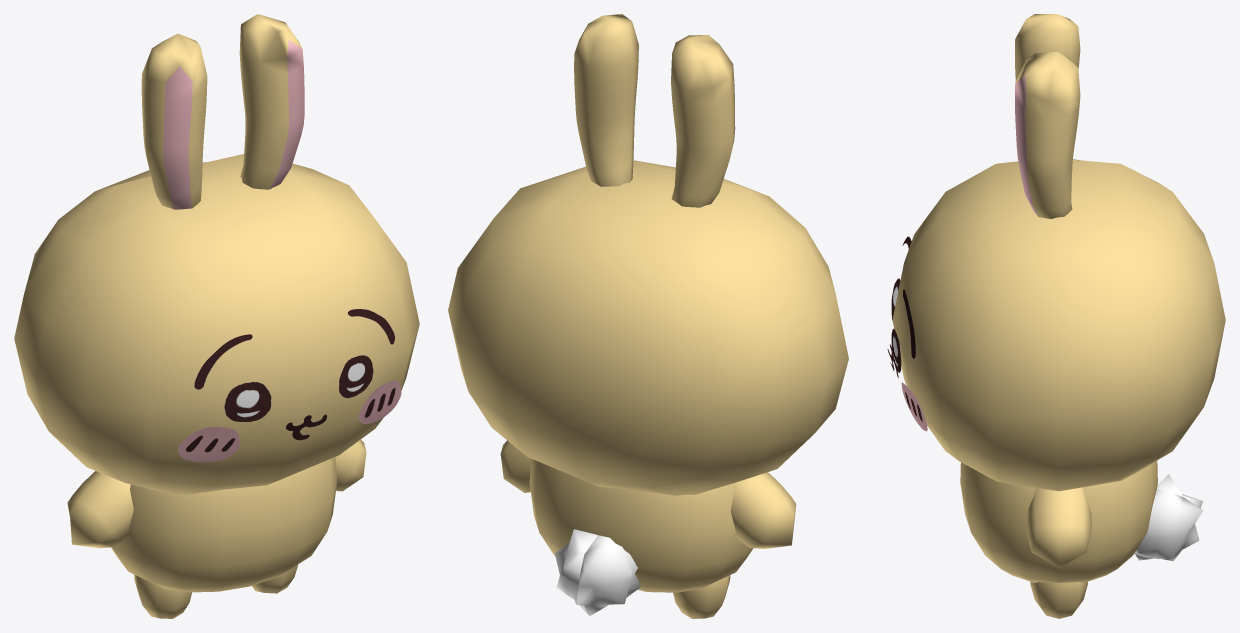
The model's file is usagi.glb.
3 views of the same model, side by side, from view 1: azimuth 30°, elevation 25°; view 2: azimuth 150°, elevation 25°; view 3: azimuth 270°, elevation 25° (orthographic). The views are drawn at different scales.
Parts seen in each view (by area): view 1: head, torso, ear_l, ear_r, face, arm_l, foot_l, arm_r, foot_r; view 2: head, torso, ear_r, ear_l, tail, arm_l, foot_l, arm_r; view 3: head, torso, ear_r, arm_r, tail, ear_l, foot_r, face.
Boxes of the visible parts, <box> form: head: <box>14,154,419,494</box>; torso: <box>111,457,337,592</box>; ear_l: <box>141,33,207,209</box>; ear_r: <box>239,14,304,189</box>; face: <box>178,309,401,462</box>; arm_l: <box>67,471,133,548</box>; foot_l: <box>134,574,191,618</box>; arm_r: <box>335,439,366,491</box>; foot_r: <box>252,564,298,593</box>; head: <box>448,160,848,495</box>; torso: <box>529,458,752,592</box>; ear_r: <box>574,14,638,186</box>; ear_l: <box>671,35,735,207</box>; tail: <box>554,529,640,615</box>; arm_l: <box>730,472,796,548</box>; foot_l: <box>673,575,730,618</box>; arm_r: <box>500,440,531,492</box>; head: <box>892,159,1225,491</box>; torso: <box>960,460,1157,582</box>; ear_r: <box>1015,51,1080,218</box>; arm_r: <box>1026,487,1091,567</box>; tail: <box>1134,474,1203,561</box>; ear_l: <box>1015,14,1080,170</box>; foot_r: <box>1030,581,1087,618</box>; face: <box>887,236,927,431</box>.
Bounding box in the file's own units: 1.58 × 2.43 × 1.37.
Materials: 2 (2 with a texture image).
